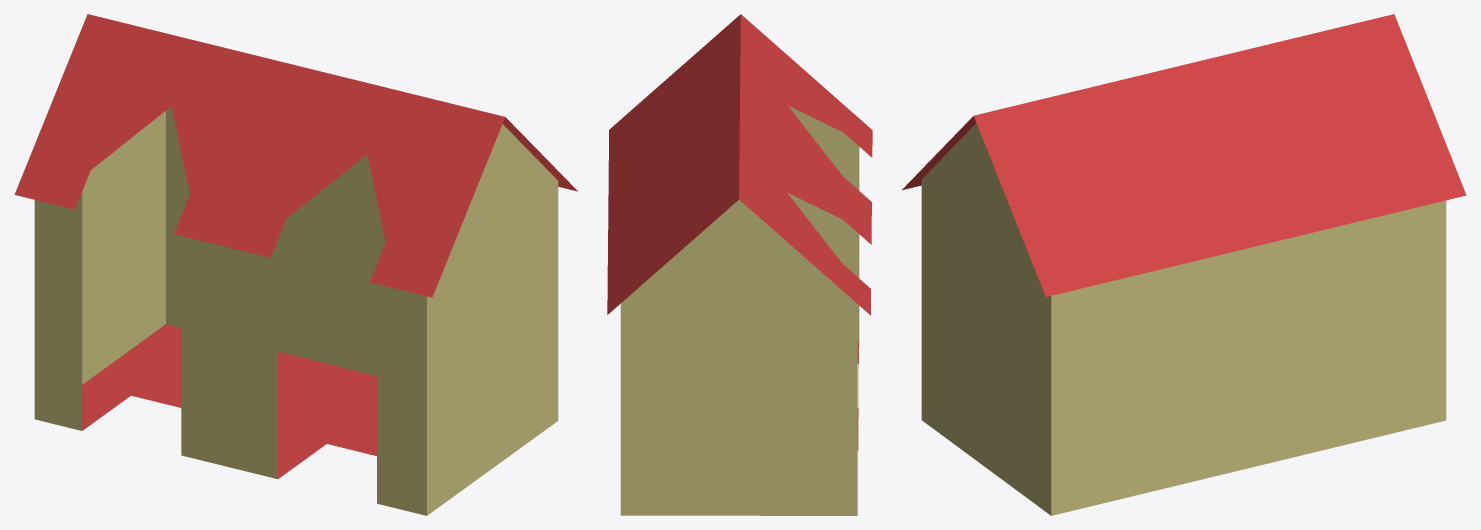
3 views of the same model, side by side, from view 1: azimuth 30°, elevation 25°; view 2: azimuth 150°, elevation 25°; view 3: azimuth 270°, elevation 25° (orthographic). The views are drawn at different scales.
Bounding box in the file's own units: 25.04 × 28.69 × 19.91.
